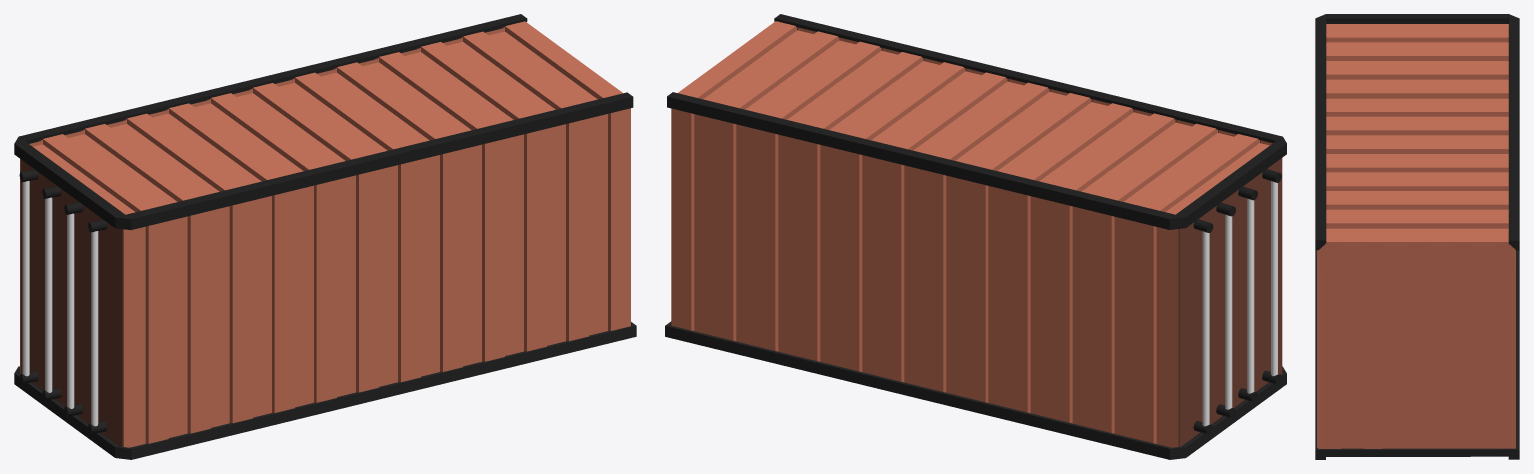
File: containerColor.fbx
The picture shows the model from 3 angles, left to right: view 1: azimuth 30°, elevation 25°; view 2: azimuth 150°, elevation 25°; view 3: azimuth 270°, elevation 25°; orthographic projection. The views are drawn at different scales.
Visible parts, largest first — view 1: Cube, Cube.002, Cube.006, Cube.007, Cube.005, Cylinder.006, Cylinder.007, Cube.001; view 2: Cube.001, Cube.002, Cube.006, Cube.007, Cube.005, Cylinder.006, Cylinder.007, Cube; view 3: Cube.002, Cube.004, Cube.007, Cube.005, Cube.001, Cube, Cube.006.
Boxes of the visible parts, x1,y1,x2,y2 form: Cube: (124, 108, 630, 447); Cube.002: (33, 21, 622, 214); Cube.006: (20, 159, 123, 446); Cube.007: (14, 14, 633, 229); Cube.005: (14, 322, 636, 459); Cylinder.006: (22, 181, 98, 426); Cylinder.007: (19, 169, 106, 434); Cube.001: (20, 27, 504, 373); Cube.001: (671, 108, 1178, 447); Cube.002: (678, 21, 1269, 214); Cube.006: (1178, 158, 1281, 446); Cube.007: (667, 14, 1286, 229); Cube.005: (665, 321, 1286, 459); Cylinder.006: (1202, 181, 1277, 426); Cylinder.007: (1193, 169, 1281, 434); Cube: (798, 27, 1282, 374); Cube.002: (1325, 24, 1508, 246); Cube.004: (1320, 244, 1513, 448); Cube.007: (1315, 14, 1519, 250); Cube.005: (1315, 250, 1519, 459); Cube.001: (1510, 248, 1515, 448); Cube: (1317, 249, 1322, 448); Cube.006: (1326, 24, 1508, 229).
Size of the model in its own units: 9.33 by 4.09 by 3.48.
